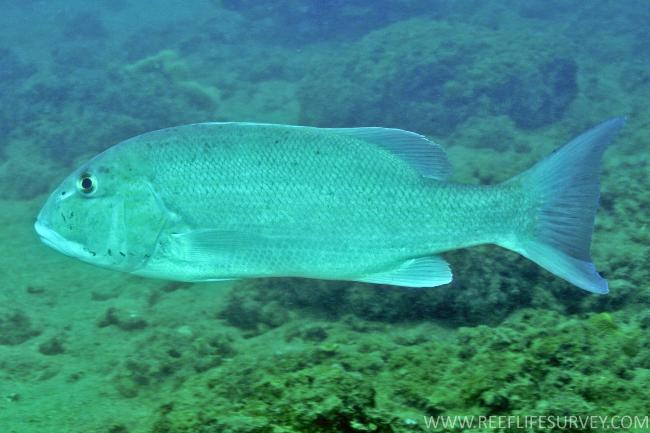fish: (35, 121, 629, 295)
